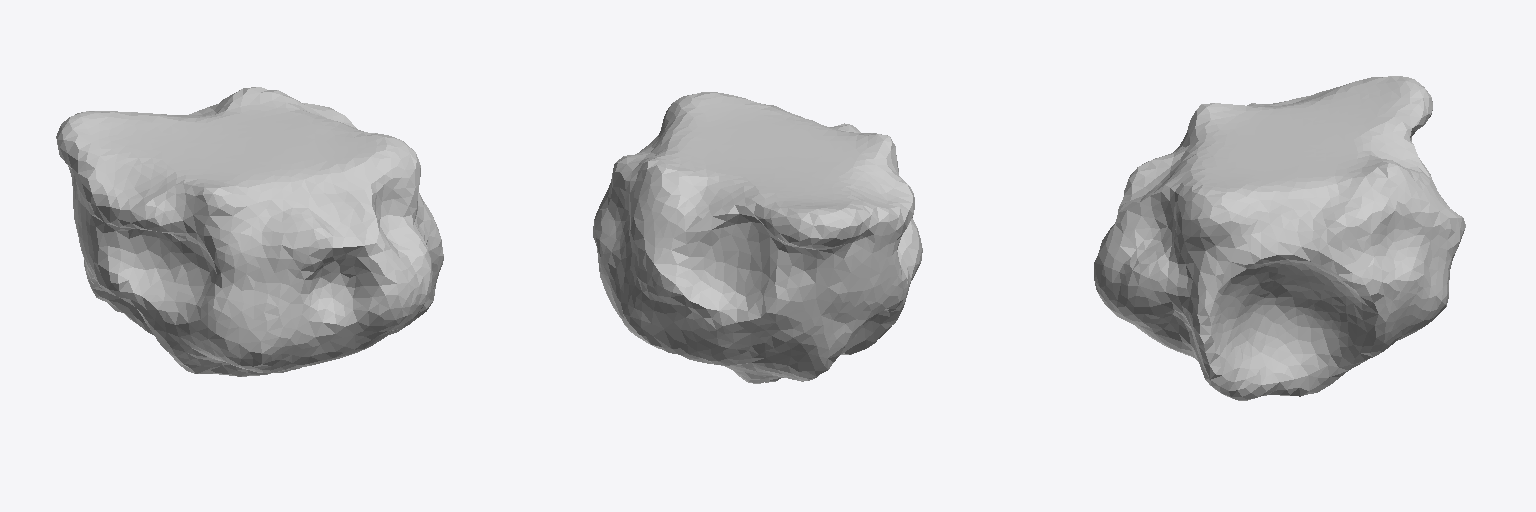
Rendered from Asteroid1.obj.
3 renders of one model, left to right at view 1: azimuth 30°, elevation 25°; view 2: azimuth 150°, elevation 25°; view 3: azimuth 270°, elevation 25°, orthographic.
Visible parts, largest first — view 1: Cube; view 2: Cube; view 3: Cube.
Boxes of the visible parts, <box> form: Cube: <box>56,87,443,376</box>; Cube: <box>593,92,922,383</box>; Cube: <box>1094,76,1465,400</box>.
Bounding box in the file's own units: 4.42 × 3.4 × 4.77.